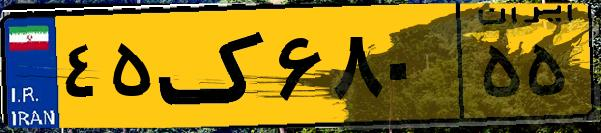0: (385, 28, 445, 110)
4: (57, 26, 110, 100)
5: (475, 38, 525, 113), (525, 38, 570, 115), (110, 28, 158, 98)
6: (270, 28, 330, 110)
8: (330, 28, 385, 110)
ک: (158, 12, 270, 120)
